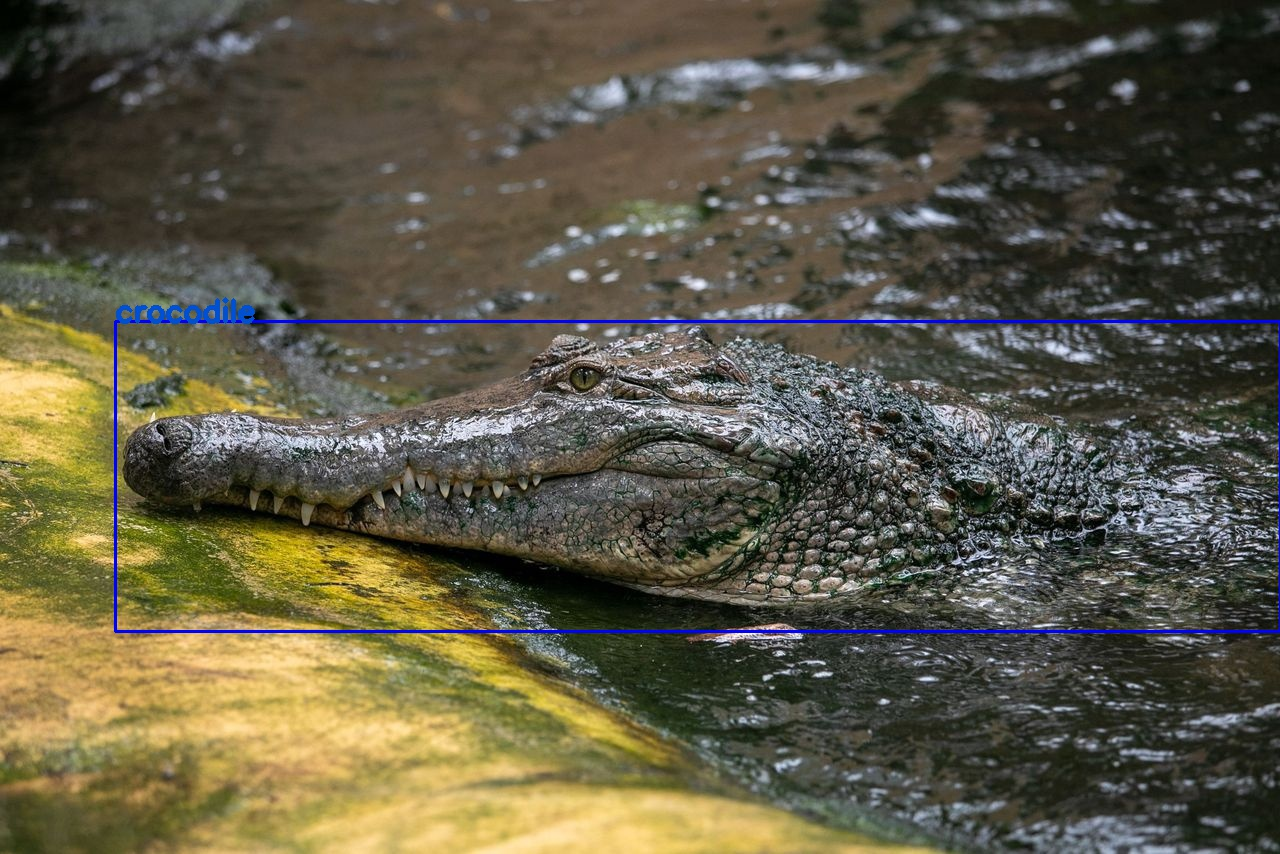crocodile: (115, 320, 1280, 631)
